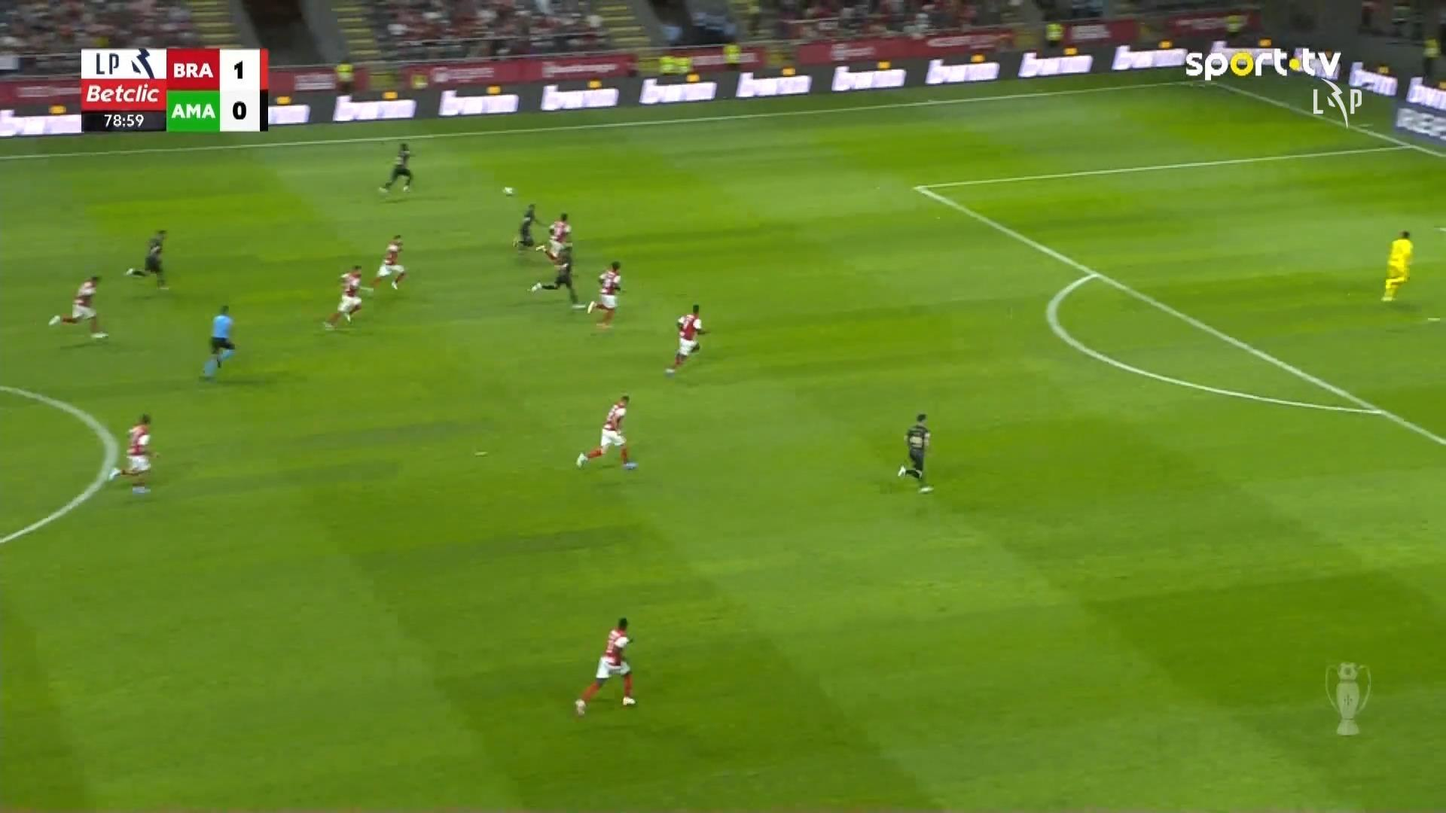ball: (502, 186, 514, 196)
goalkeeper: (1380, 229, 1414, 302)
player: (573, 617, 636, 717), (575, 394, 638, 471), (107, 413, 159, 495), (47, 273, 108, 340), (527, 239, 582, 306), (664, 303, 708, 375), (896, 412, 935, 493), (322, 263, 369, 330), (124, 228, 169, 291), (585, 260, 625, 329), (370, 233, 407, 291), (377, 142, 413, 194), (511, 202, 545, 250), (547, 211, 572, 254)
referee: (200, 304, 236, 380)
